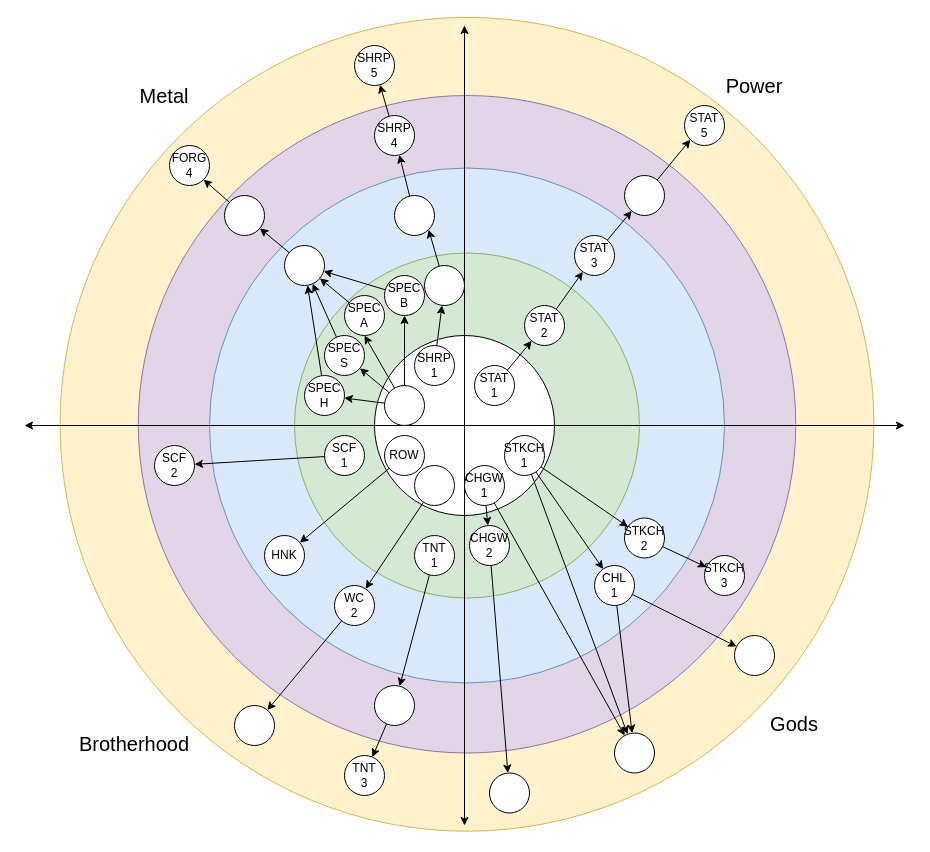
The diagram is 930 pixels wide and 852 high, and some of its shapes have lost their labels. Each missing label, with the centre of its shape:
"CFTG" goes at (634,752).
"CHGW 3" goes at (509,792).
"CHL 2" goes at (754,655).
"FORG 1" goes at (404,405).
"FORG 2" goes at (304,265).
"FORG 3" goes at (244,215).
"SHRP 2" goes at (444,285).
"SHRP 3" goes at (414,215).
"STAT 4" goes at (644,195).
"TNT 2" goes at (394,705).
"WC 1" goes at (434,485).
"WC 3" goes at (254,725).
